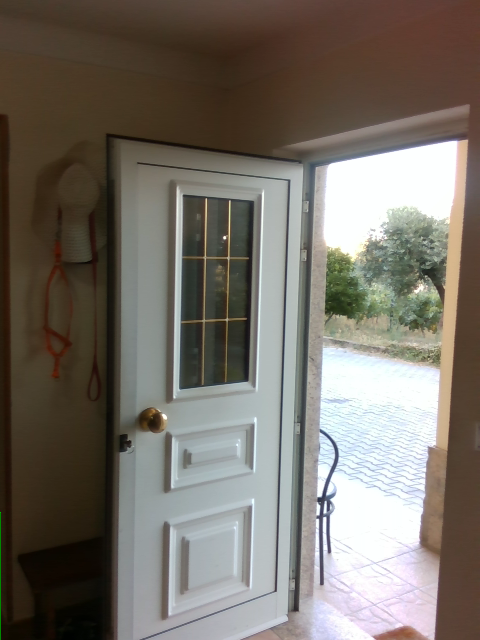open: (105, 81, 479, 639)
